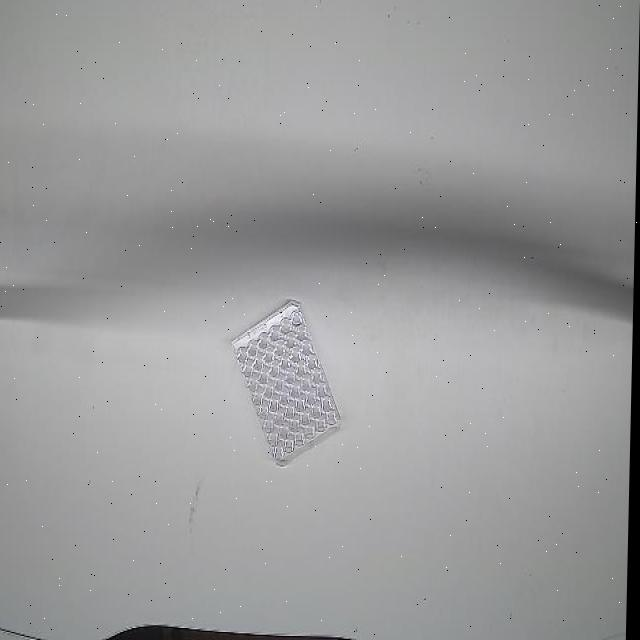Cell Culture Plate - 24: (226, 293, 349, 469)
